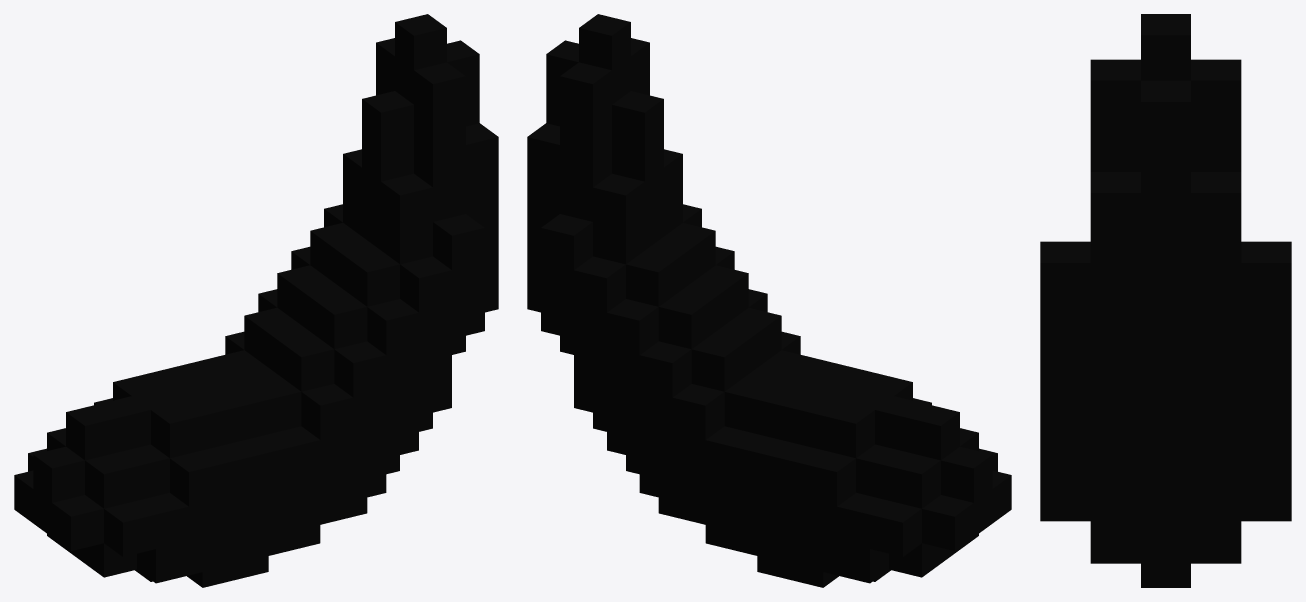
File: Cucumber.obj
The picture shows the model from 3 angles, left to right: view 1: azimuth 30°, elevation 25°; view 2: azimuth 150°, elevation 25°; view 3: azimuth 270°, elevation 25°; orthographic projection. The views are drawn at different scales.
Parts seen in each view (by area): view 1: Cucumber; view 2: Cucumber; view 3: Cucumber.
Boxes of the visible parts, x1,y1,x2,y2 form: Cucumber: (14,14,498,587); Cucumber: (527,14,1011,587); Cucumber: (1040,14,1291,587).
Bounding box in the file's own units: 1.3 × 1.4 × 0.5.
